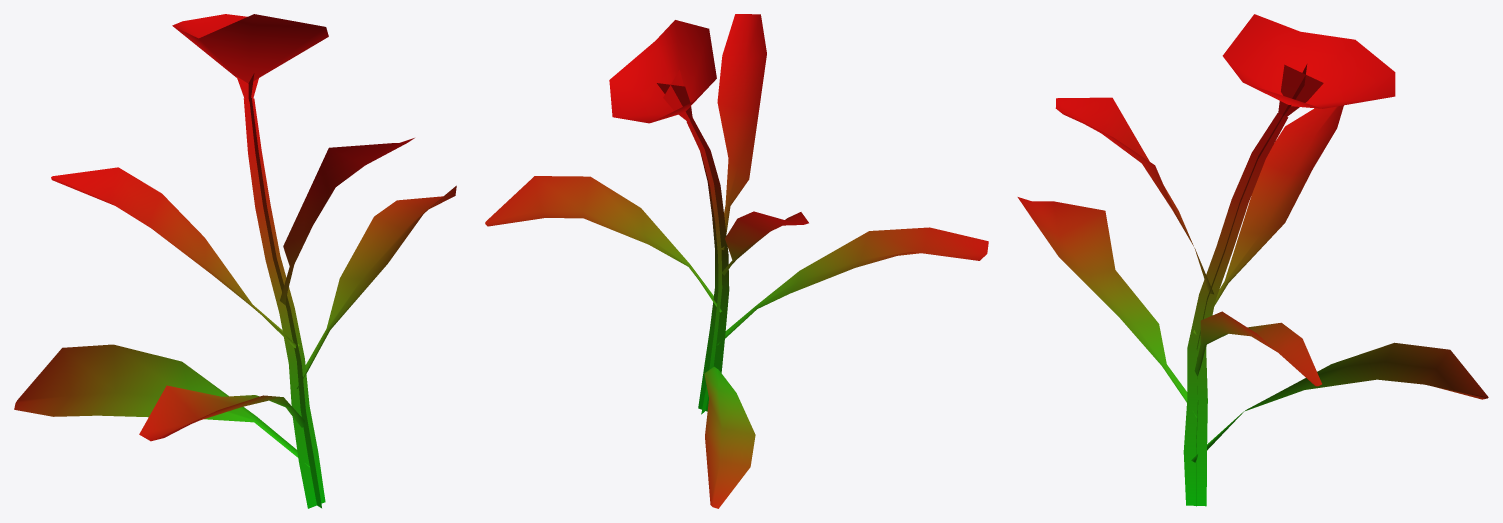
Rendered from Field Poppy_LOD2_Var14_vmcobd0ja.fbx.
The picture shows the model from 3 angles, left to right: view 1: azimuth 30°, elevation 25°; view 2: azimuth 150°, elevation 25°; view 3: azimuth 270°, elevation 25°; orthographic projection. The views are drawn at different scales.
Visible parts, largest first — view 1: _4osj_Var14_LOD2; view 2: _4osj_Var14_LOD2; view 3: _4osj_Var14_LOD2.
Boxes of the visible parts, x1,y1,x2,y2 form: _4osj_Var14_LOD2: (14, 14, 456, 508); _4osj_Var14_LOD2: (485, 14, 988, 508); _4osj_Var14_LOD2: (1017, 14, 1488, 506).
Bounding box in the file's own units: 29.21 × 29.85 × 26.75.
